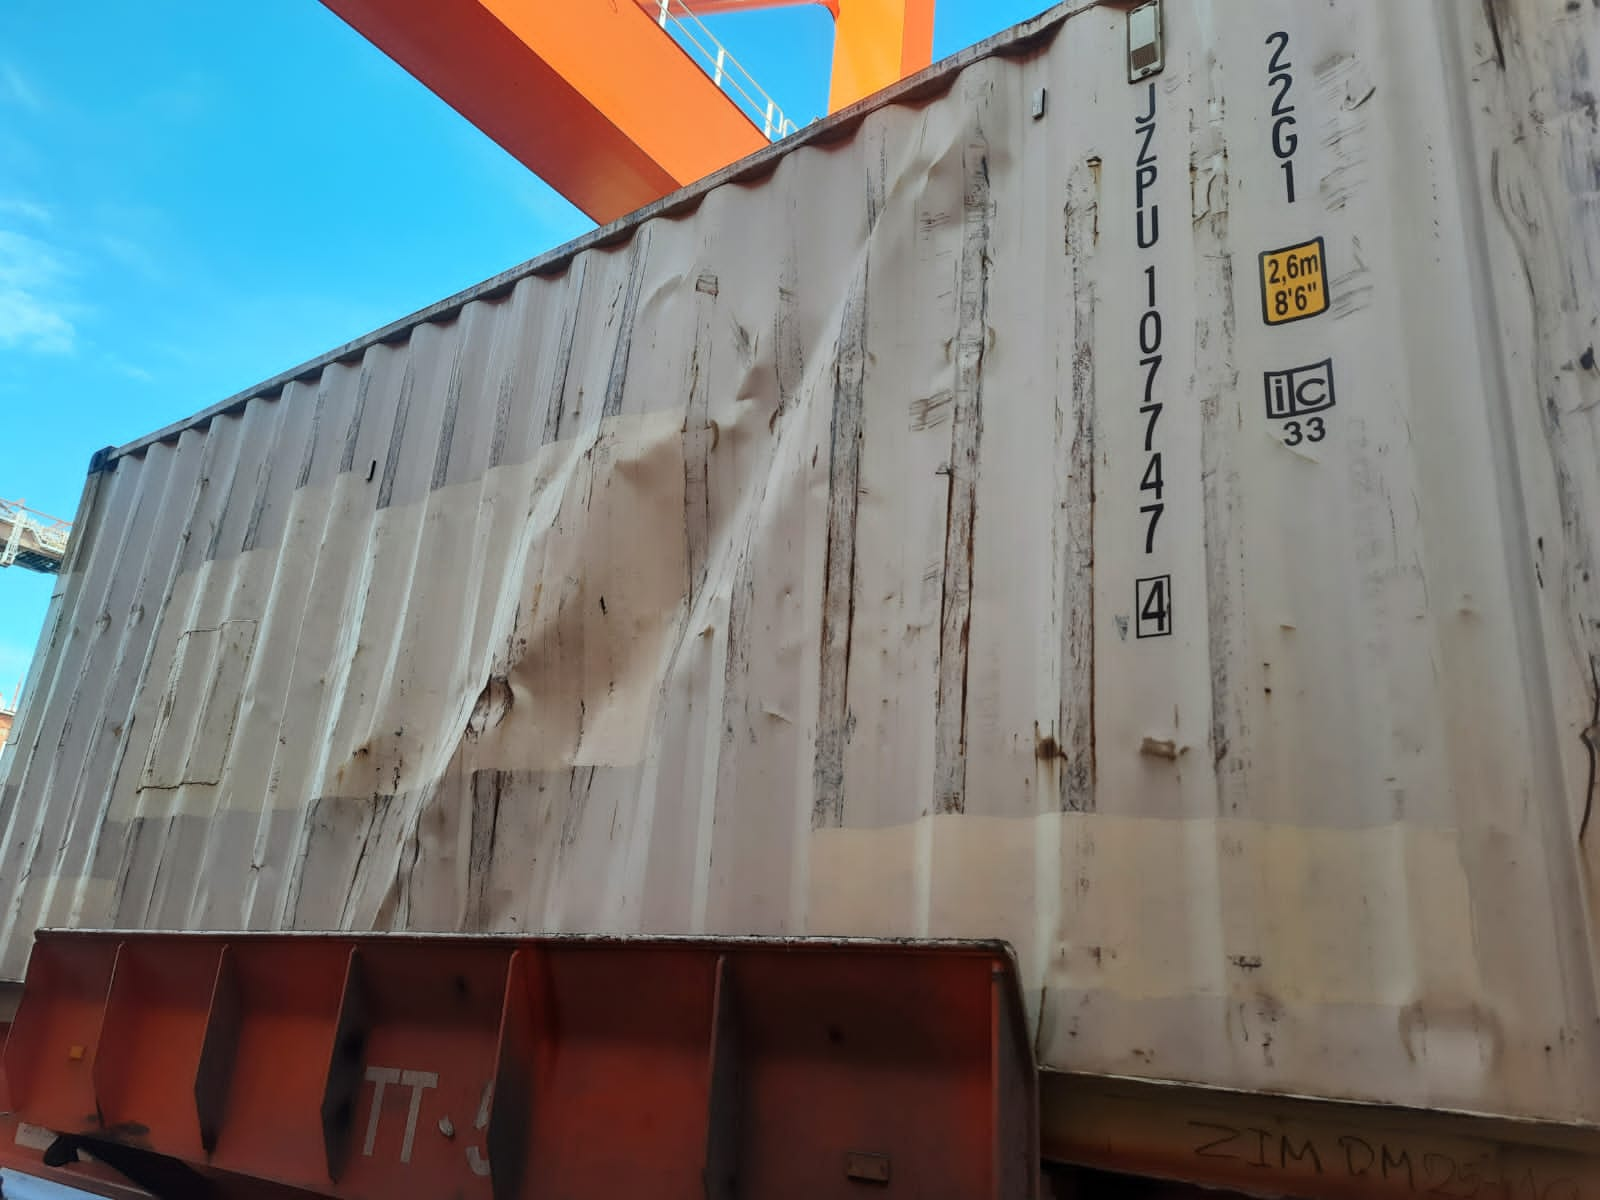bulged: (323, 357, 849, 863), (853, 100, 1005, 258)
